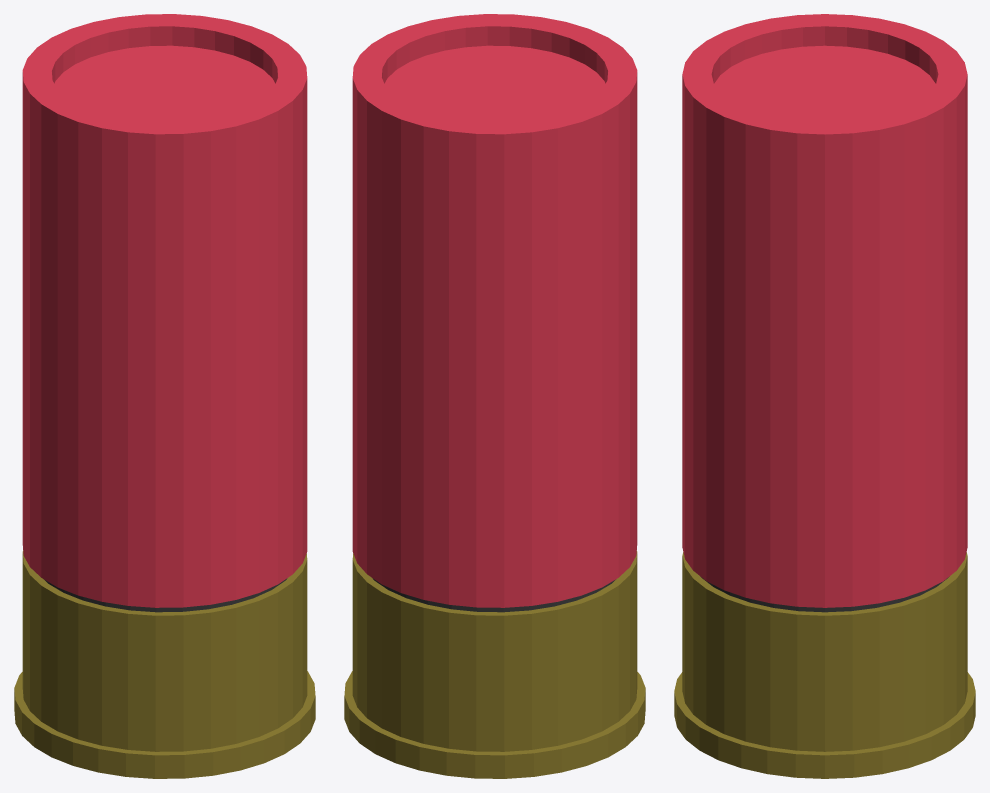
File: shotgun_shell.glb
The picture shows the model from 3 angles, left to right: view 1: azimuth 30°, elevation 25°; view 2: azimuth 150°, elevation 25°; view 3: azimuth 270°, elevation 25°; orthographic projection.
Parts seen in each view (by area): view 1: Cylinder; view 2: Cylinder; view 3: Cylinder.
Boxes of the visible parts, x1,y1,x2,y2 form: Cylinder: (14,14,315,778); Cylinder: (344,14,645,778); Cylinder: (674,14,975,778).
Size of the model in its own units: 2.12 by 4.96 by 2.12.
